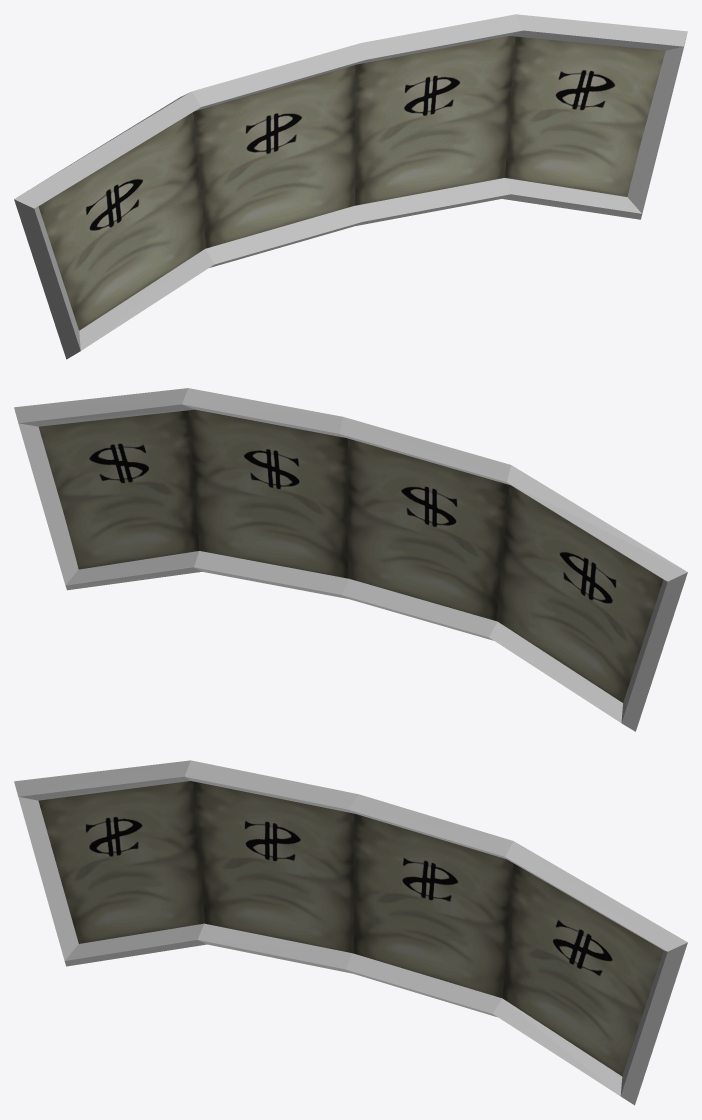
The model's file is Schild_Hehler_1699.glb.
The picture shows the model from 3 angles, top to bottom: view 1: azimuth 30°, elevation 25°; view 2: azimuth 150°, elevation 25°; view 3: azimuth 330°, elevation 25°; orthographic projection.
Visible parts, largest first — view 1: pPlaneShape1, pTorusShape1; view 2: pPlaneShape1, pTorusShape1; view 3: pPlaneShape1, pTorusShape1.
Part boxes in pixels (x1,y1,x2,y2): pPlaneShape1: [38, 36, 665, 330]; pTorusShape1: [14, 14, 687, 359]; pPlaneShape1: [38, 409, 663, 702]; pTorusShape1: [14, 388, 687, 731]; pPlaneShape1: [38, 781, 663, 1076]; pTorusShape1: [14, 760, 687, 1105].
Size of the model in its own units: 0.412 by 0.1427 by 0.0198.
2 materials, 1 textured.
